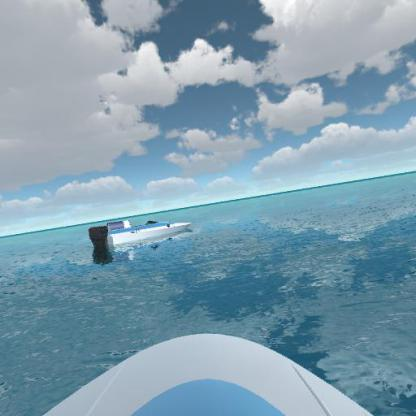usv1: (84, 212, 197, 259)
